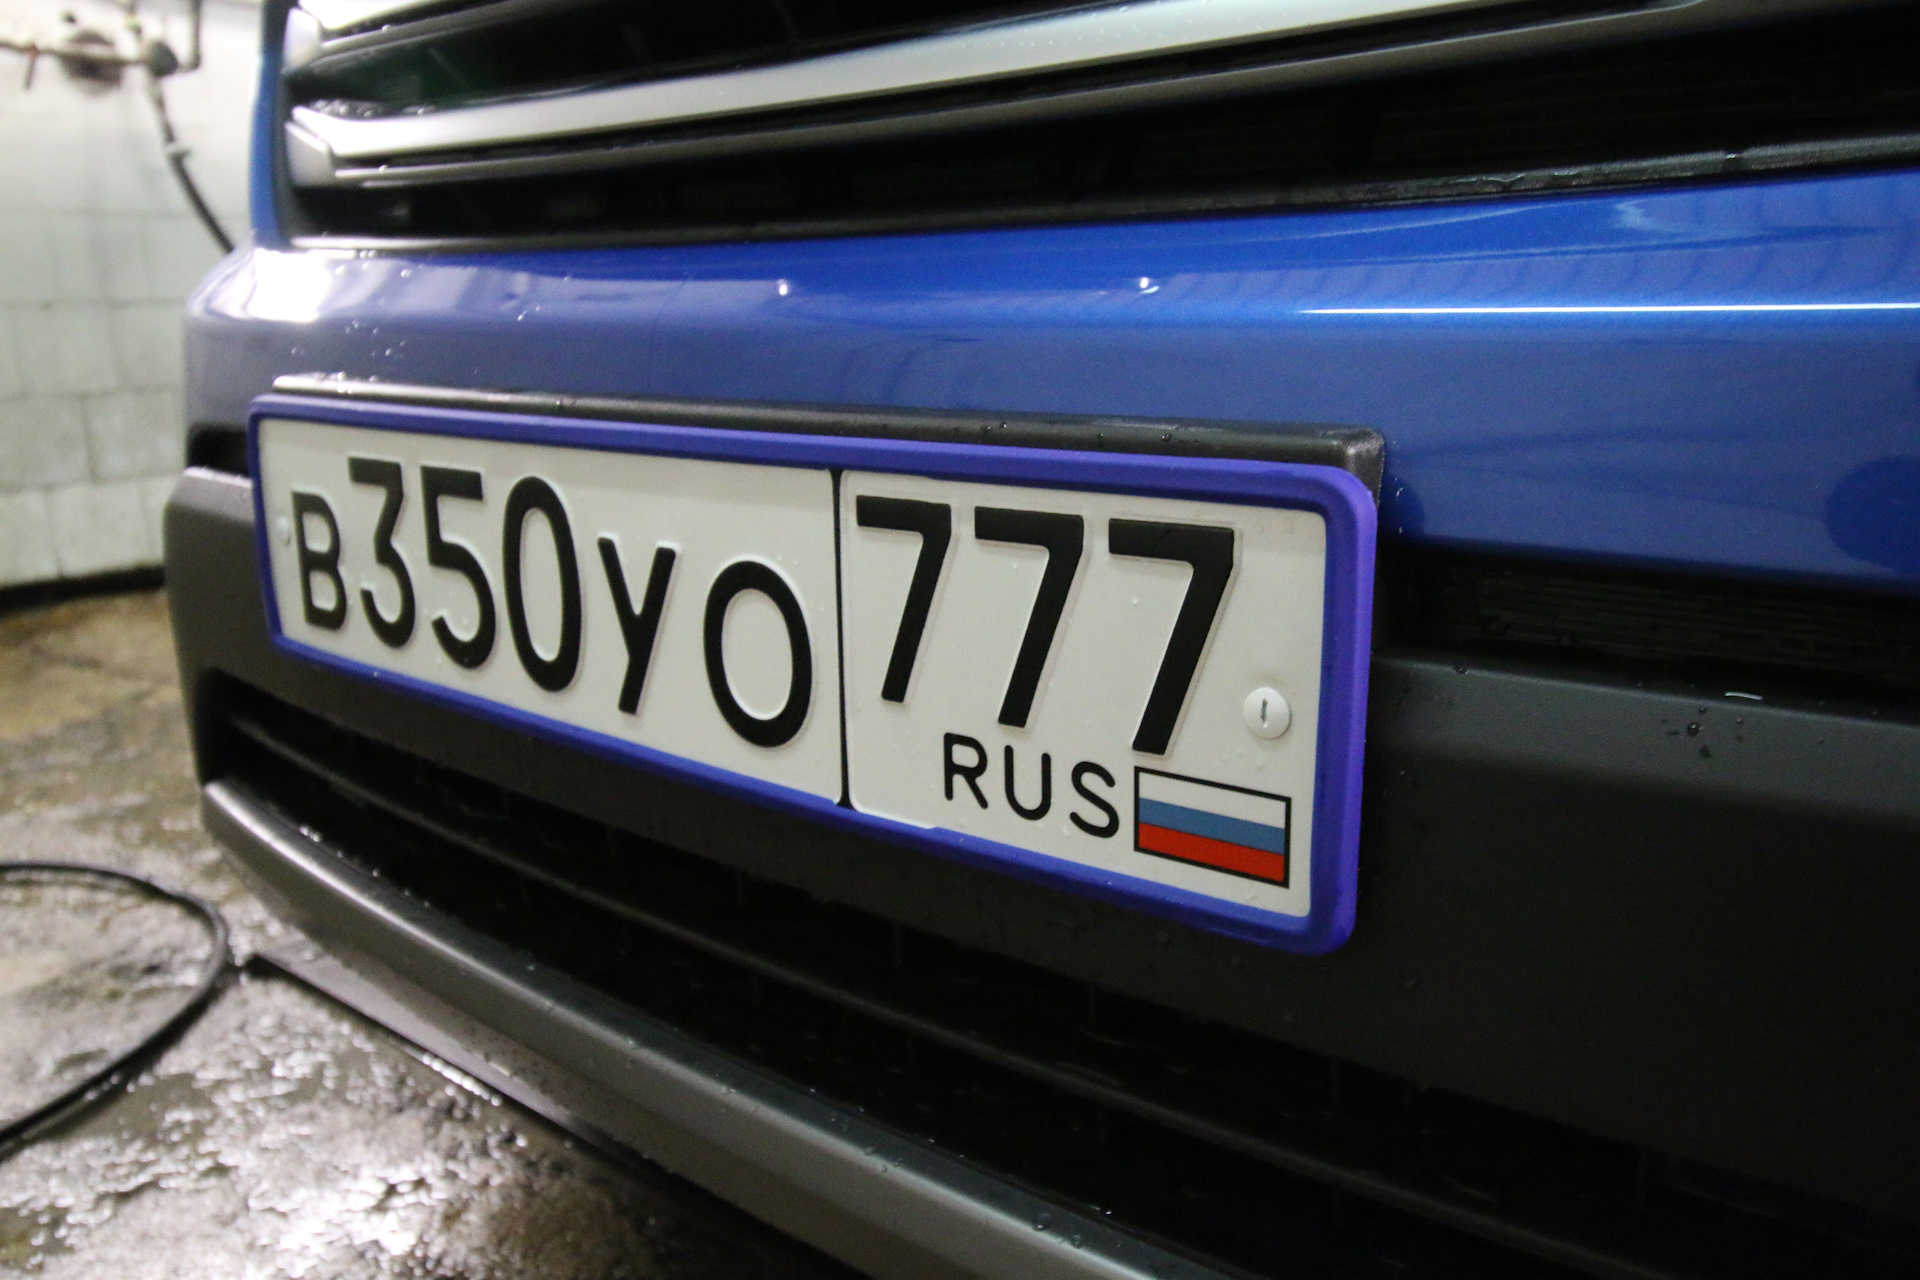number_plate: (177, 344, 1433, 891)
